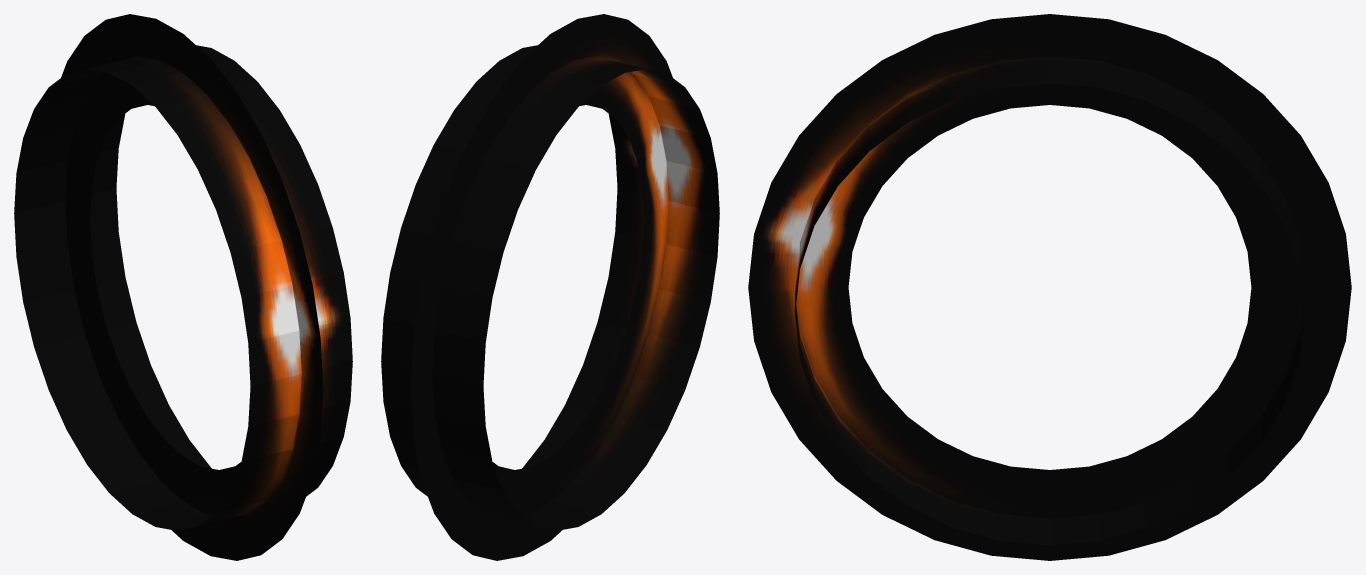
Rendered from 0370_lunzi.glb.
The picture shows the model from 3 angles, left to right: view 1: azimuth 30°, elevation 25°; view 2: azimuth 150°, elevation 25°; view 3: azimuth 270°, elevation 25°; orthographic projection. The views are drawn at different scales.
Bounding box in the file's own units: 0.4646 × 2.2 × 2.2.
1 material, 1 textured.
